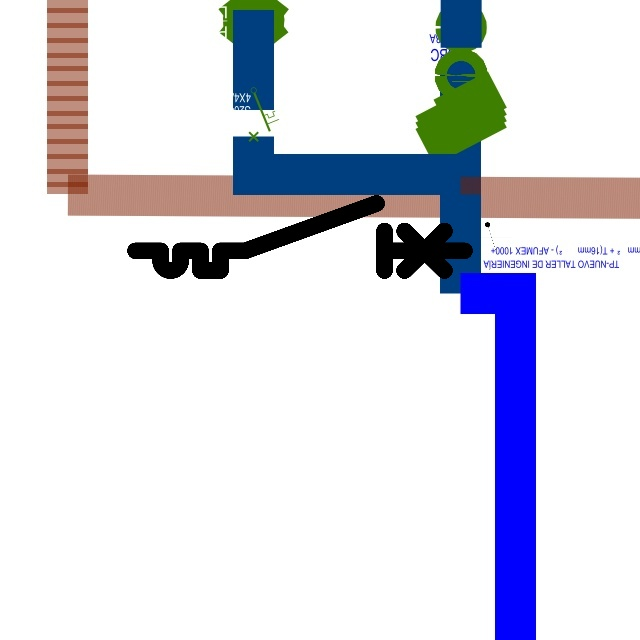interruptor_termomagnetico: (127, 195, 472, 279)
